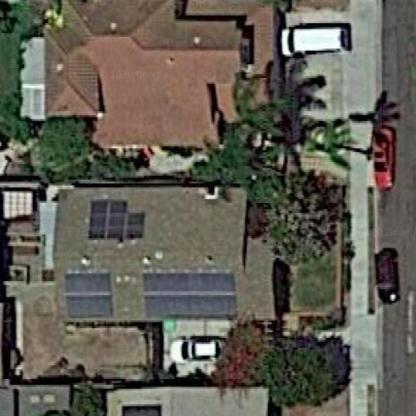car: (277, 23, 358, 62), (367, 240, 404, 313), (367, 118, 398, 199), (167, 334, 231, 364)
solar_panel: (136, 263, 245, 325), (84, 192, 152, 248), (60, 265, 119, 324)
